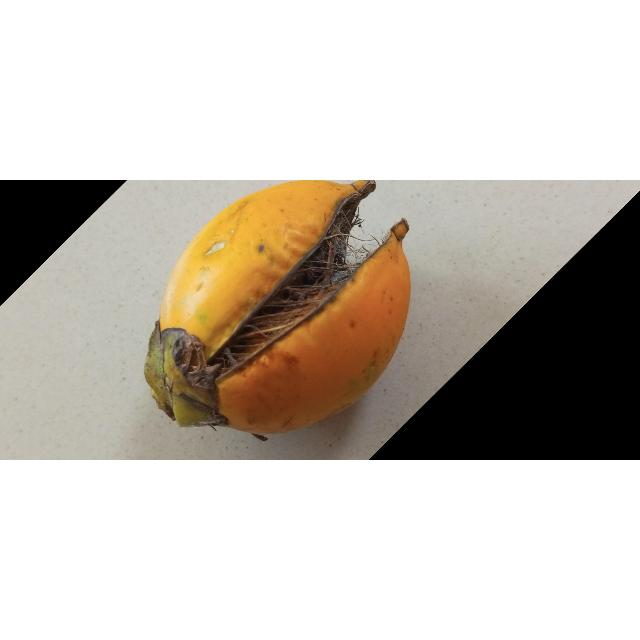damaged: (144, 180, 412, 439)
